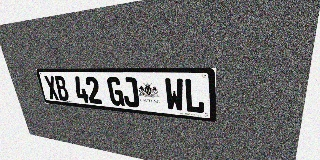2: (84, 76, 102, 104)
4: (72, 76, 90, 103)
B: (54, 76, 70, 101)
G: (106, 77, 125, 106)
J: (121, 77, 140, 108)
L: (184, 78, 205, 114)
W: (164, 78, 185, 112)
X: (44, 76, 60, 100)
